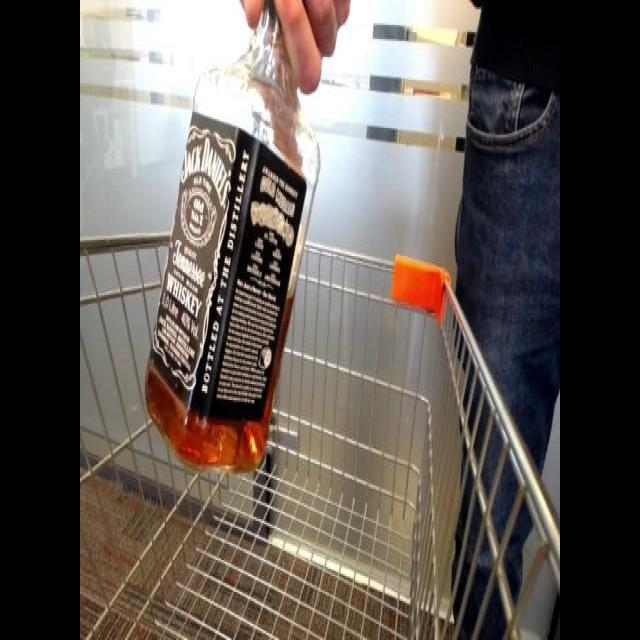Jack Daniels: (127, 0, 340, 487)
